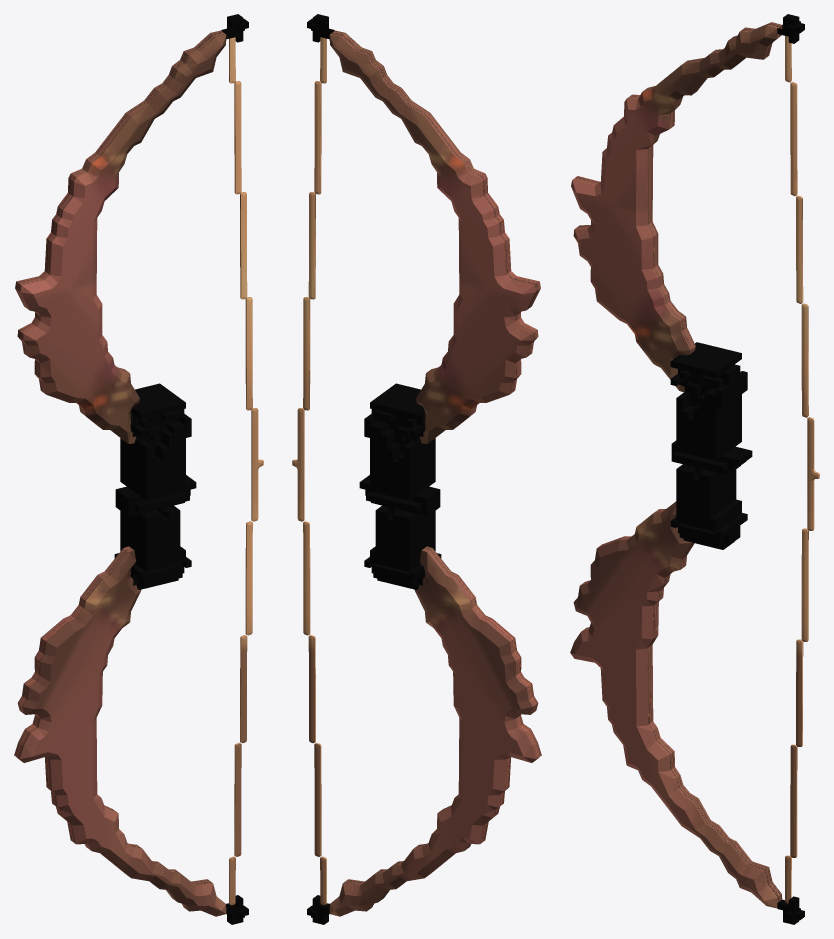
Rendered from ember_bow.obj.
3 views of the same model, side by side, from view 1: azimuth 30°, elevation 25°; view 2: azimuth 150°, elevation 25°; view 3: azimuth 330°, elevation 25° (orthographic).
Parts seen in each view (by area): view 1: ember_bow; view 2: ember_bow; view 3: ember_bow.
Boxes of the visible parts, x1=… form: ember_bow: x1=14, y1=14, x2=263, y2=924; ember_bow: x1=292, y1=14, x2=541, y2=924; ember_bow: x1=570, y1=14, x2=819, y2=924.
Bounding box in the file's own units: 0.4544 × 1.59 × 0.0833.
